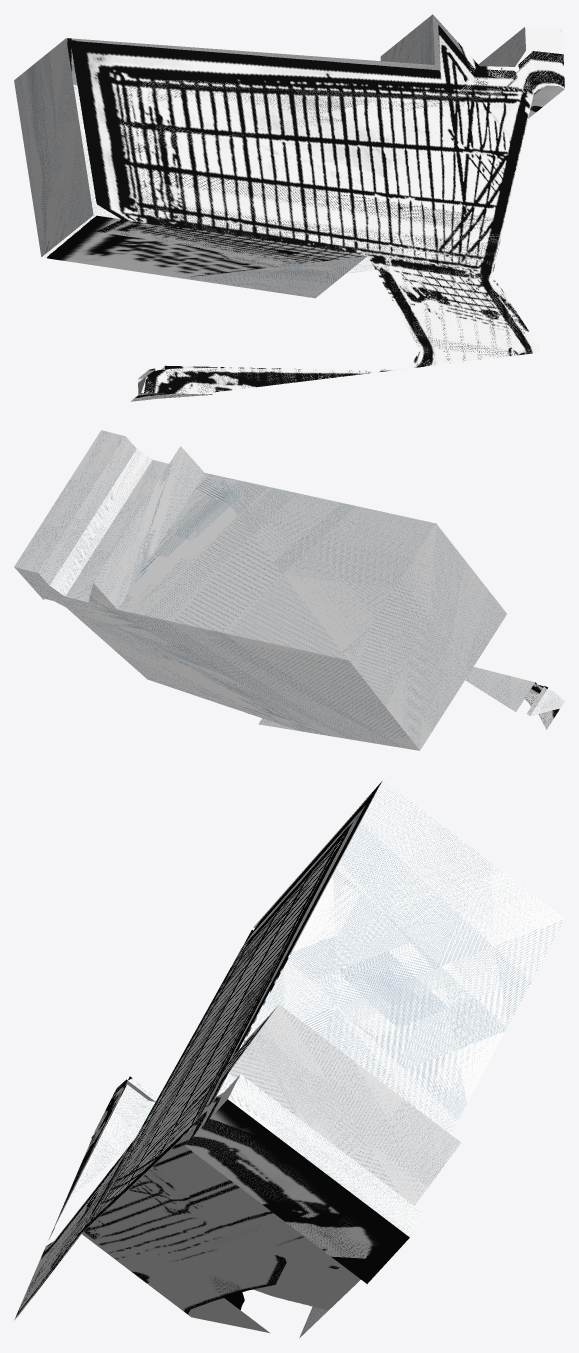
Rendered from Shopping Cart Sliced.fbx.
3 views of the same model, one above another, from view 1: azimuth 30°, elevation 25°; view 2: azimuth 150°, elevation 25°; view 3: azimuth 270°, elevation 25° (orthographic). The views are drawn at different scales.
Visible parts, largest first — view 1: Model; view 2: Model; view 3: Model.
Part boxes in pixels (box(x1,y1,x2,y2)): Model: box(14, 14, 564, 401); Model: box(14, 430, 564, 750); Model: box(14, 780, 564, 1338).
Bounding box in the file's own units: 164 × 95.14 × 131.
